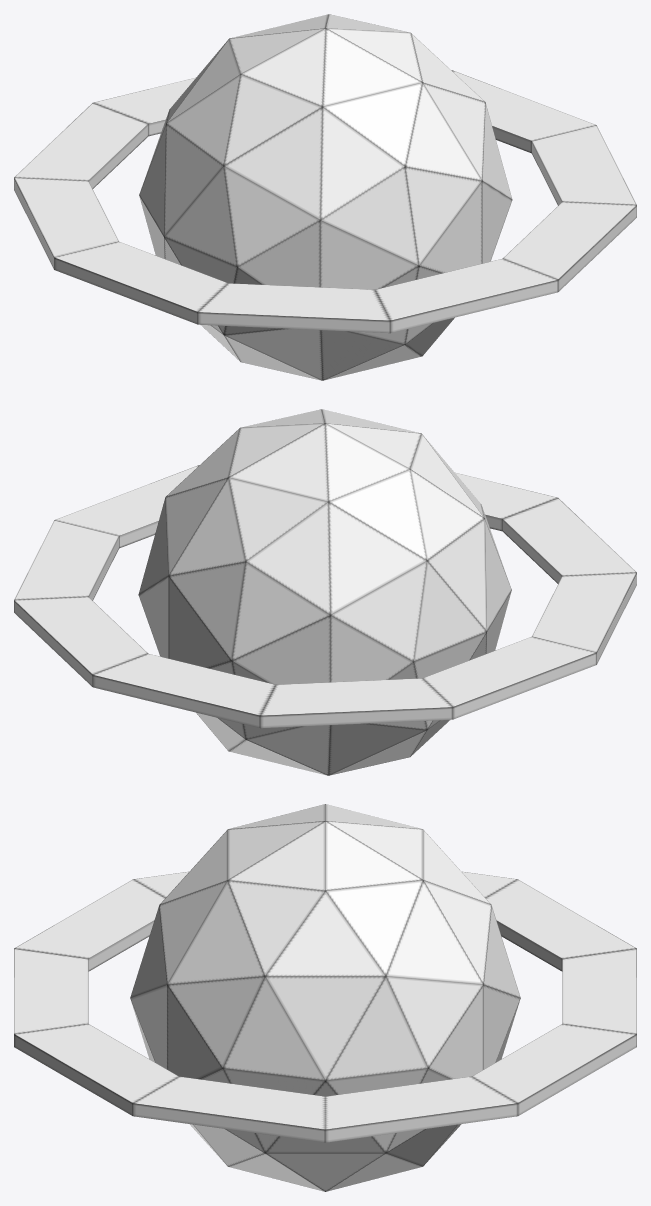
File: Planet-05.fbx
3 renders of one model, top to bottom at view 1: azimuth 30°, elevation 25°; view 2: azimuth 150°, elevation 25°; view 3: azimuth 270°, elevation 25°, orthographic. The views are drawn at different scales.
Visible parts, largest first — view 1: Planet_05; view 2: Planet_05; view 3: Planet_05.
Boxes of the visible parts, x1,y1,x2,y2 form: Planet_05: (14, 14, 636, 380); Planet_05: (14, 409, 636, 775); Planet_05: (14, 804, 636, 1191).
Bounding box in the file's own units: 9.84 × 5.87 × 9.36.
